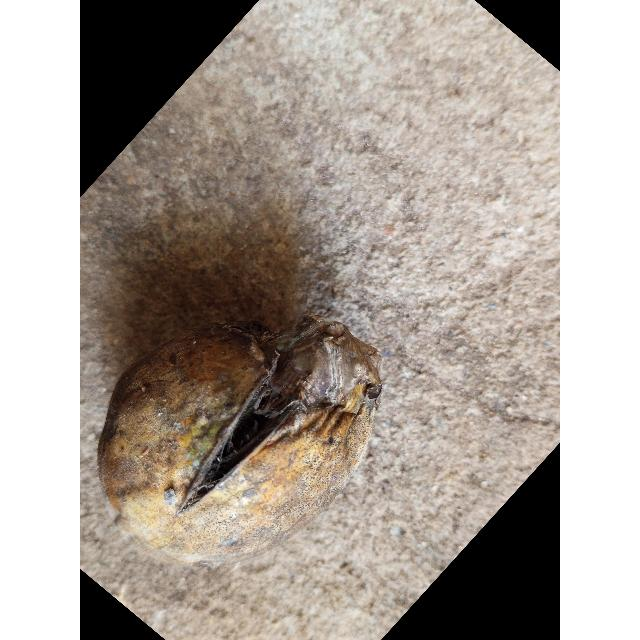damaged: (97, 307, 382, 572)
